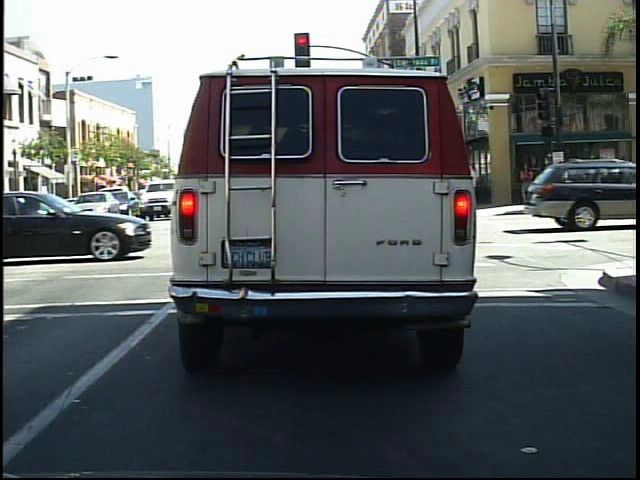person: (537, 154, 561, 209), (542, 147, 563, 209), (515, 157, 539, 208), (557, 157, 577, 208)
